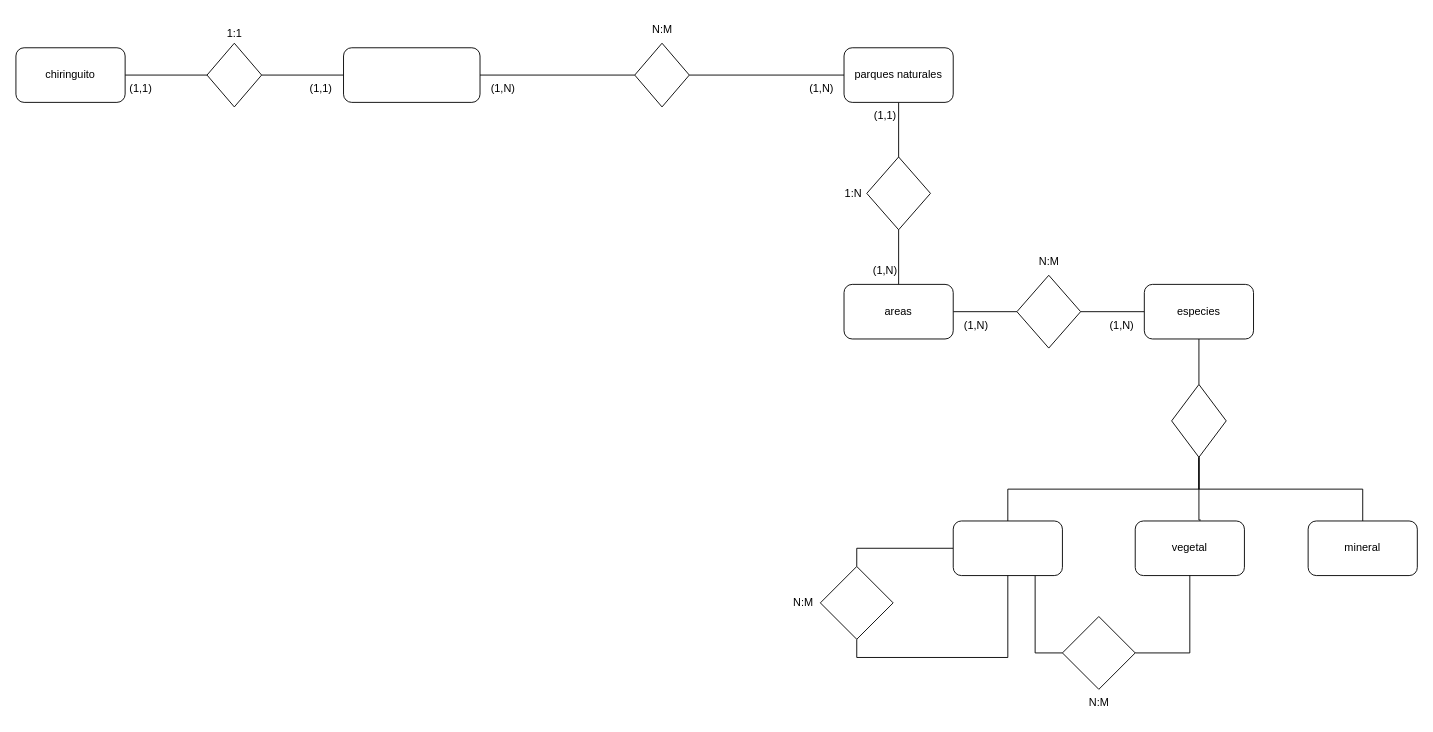
Image size: 1433x732. Some labels were removed from this diagram. Each missing label, with the box of its shape:
animal: (952, 520, 1062, 576)
comunidad autonoma: (343, 47, 480, 102)
